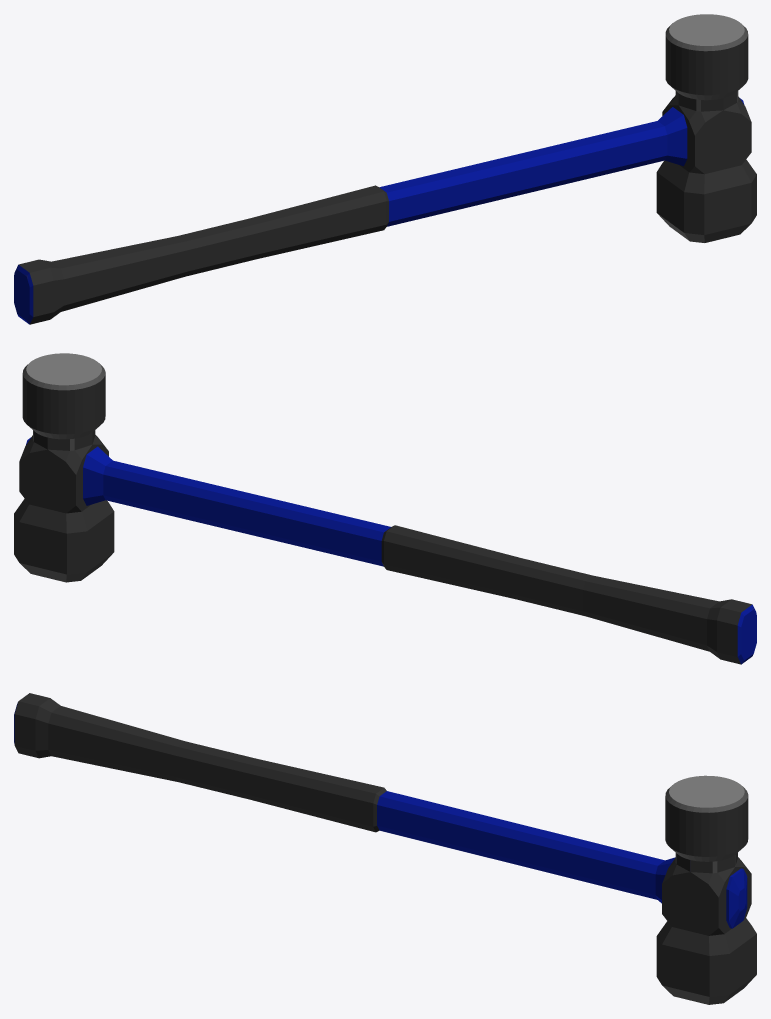
File: PoliceBreachingHammer.fbx
3 renders of one model, top to bottom at view 1: azimuth 30°, elevation 25°; view 2: azimuth 150°, elevation 25°; view 3: azimuth 330°, elevation 25°, orthographic.
Parts seen in each view (by area): view 1: PoliceBreachingHammer; view 2: PoliceBreachingHammer; view 3: PoliceBreachingHammer.
Boxes of the visible parts, x1,y1,x2,y2 form: PoliceBreachingHammer: [14, 14, 756, 324]; PoliceBreachingHammer: [14, 353, 756, 664]; PoliceBreachingHammer: [14, 693, 756, 1004].
Size of the model in its own units: 0.7163 by 0.1872 by 0.0723.
